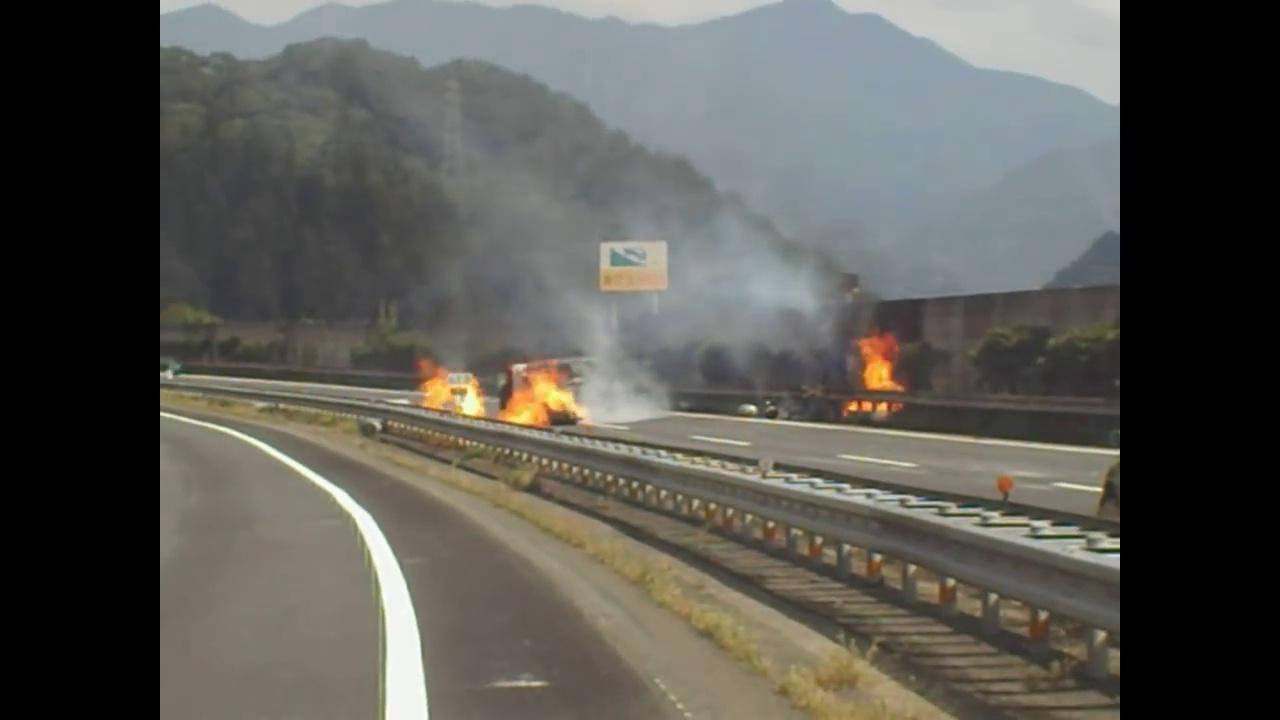Fire: (840, 325, 914, 419), (500, 366, 575, 427), (417, 360, 481, 416)
